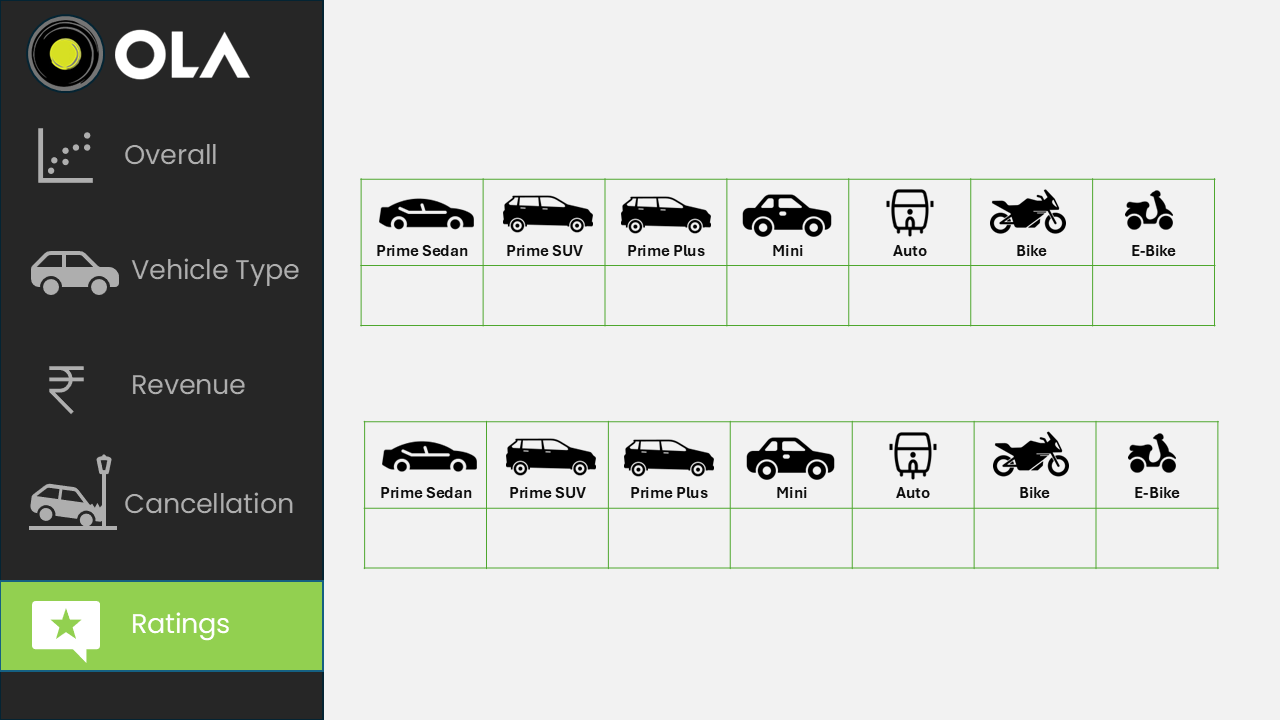

The page's visual inventory and layout, read from the dashboard file:
{"tool":"powerbi","page":{"name":"Ratings","canvas":[1280,720],"ordinal":4},"visuals":[{"type":"actionButton","box":[0,216.9,324.6,90.7],"z":0},{"type":"actionButton","box":[0,337.3,324.6,90.7],"z":1000},{"type":"actionButton","box":[0,450.7,324.6,90.7],"z":2000},{"type":"actionButton","box":[0,578.3,324.6,90.7],"z":3000},{"type":"actionButton","box":[0,107.7,324.6,90.7],"z":4000},{"type":"card","title":"Total Booking Value","fields":{"Values":["Avg(ola_bookings.Customer_Rating)"]},"box":[360.9,262.3,114.4,58.1],"z":4001},{"type":"textbox","title":"Average Ratings by Customer","box":[368,49.3,795.8,73.9],"z":4002},{"type":"textbox","title":"Average Ratings by Driver","box":[396.1,338,748.3,72.2],"z":4003},{"type":"card","title":"Total Booking Value","fields":{"Values":["Avg(ola_bookings.Customer_Rating)"]},"box":[605.7,258.8,114.4,58.1],"z":4004},{"type":"card","title":"Total Booking Value","fields":{"Values":["Avg(ola_bookings.Customer_Rating)"]},"box":[720.1,260.6,128.5,58.1],"z":4005},{"type":"card","title":"Total Booking Value","fields":{"Values":["Avg(ola_bookings.Customer_Rating)"]},"box":[848.6,262.3,114.4,58.1],"z":4006},{"type":"card","title":"Total Booking Value","fields":{"Values":["Avg(ola_bookings.Customer_Rating)"]},"box":[963.1,262.3,119.7,58.1],"z":4007},{"type":"card","title":"Total Booking Value","fields":{"Values":["Avg(ola_bookings.Customer_Rating)"]},"box":[1082.8,262.3,132,58.1],"z":4008},{"type":"card","title":"Total Booking Value","fields":{"Values":["Avg(ola_bookings.Customer_Rating)"]},"box":[475.4,260.6,130.3,58.1],"z":4009},{"type":"card","title":"Total Booking Value","fields":{"Values":["Avg(ola_bookings.Driver_Ratings)"]},"box":[365.7,504.7,114.4,58.1],"z":4010},{"type":"card","title":"Total Booking Value","fields":{"Values":["Avg(ola_bookings.Customer_Rating)"]},"box":[610.4,501.2,114.4,58.1],"z":4011},{"type":"card","title":"Total Booking Value","fields":{"Values":["Avg(ola_bookings.Customer_Rating)"]},"box":[724.8,503,128.5,58.1],"z":4012},{"type":"card","title":"Total Booking Value","fields":{"Values":["Avg(ola_bookings.Customer_Rating)"]},"box":[853.4,504.7,114.4,58.1],"z":4013},{"type":"card","title":"Total Booking Value","fields":{"Values":["Avg(ola_bookings.Customer_Rating)"]},"box":[967.8,504.7,119.7,58.1],"z":4014},{"type":"card","title":"Total Booking Value","fields":{"Values":["Avg(ola_bookings.Customer_Rating)"]},"box":[1087.5,504.7,132,58.1],"z":4015},{"type":"card","title":"Total Booking Value","fields":{"Values":["Avg(ola_bookings.Customer_Rating)"]},"box":[480.1,503,130.3,58.1],"z":4016}]}

Visuals, with their boxes on the page's 1280x720 design canvas (x1, y1, x2, y2). These are canvas units, not pixel positions in the 1280x720 screenshot, which may show the page scaled, cropped or inside an application window:
actionButton: <box>0,217,325,308</box>
actionButton: <box>0,337,325,428</box>
actionButton: <box>0,451,325,541</box>
actionButton: <box>0,578,325,669</box>
actionButton: <box>0,108,325,198</box>
"Total Booking Value" card: <box>361,262,475,320</box>
"Average Ratings by Customer" textbox: <box>368,49,1164,123</box>
"Average Ratings by Driver" textbox: <box>396,338,1144,410</box>
"Total Booking Value" card: <box>606,259,720,317</box>
"Total Booking Value" card: <box>720,261,849,319</box>
"Total Booking Value" card: <box>849,262,963,320</box>
"Total Booking Value" card: <box>963,262,1083,320</box>
"Total Booking Value" card: <box>1083,262,1215,320</box>
"Total Booking Value" card: <box>475,261,606,319</box>
"Total Booking Value" card: <box>366,505,480,563</box>
"Total Booking Value" card: <box>610,501,725,559</box>
"Total Booking Value" card: <box>725,503,853,561</box>
"Total Booking Value" card: <box>853,505,968,563</box>
"Total Booking Value" card: <box>968,505,1088,563</box>
"Total Booking Value" card: <box>1088,505,1220,563</box>
"Total Booking Value" card: <box>480,503,610,561</box>
